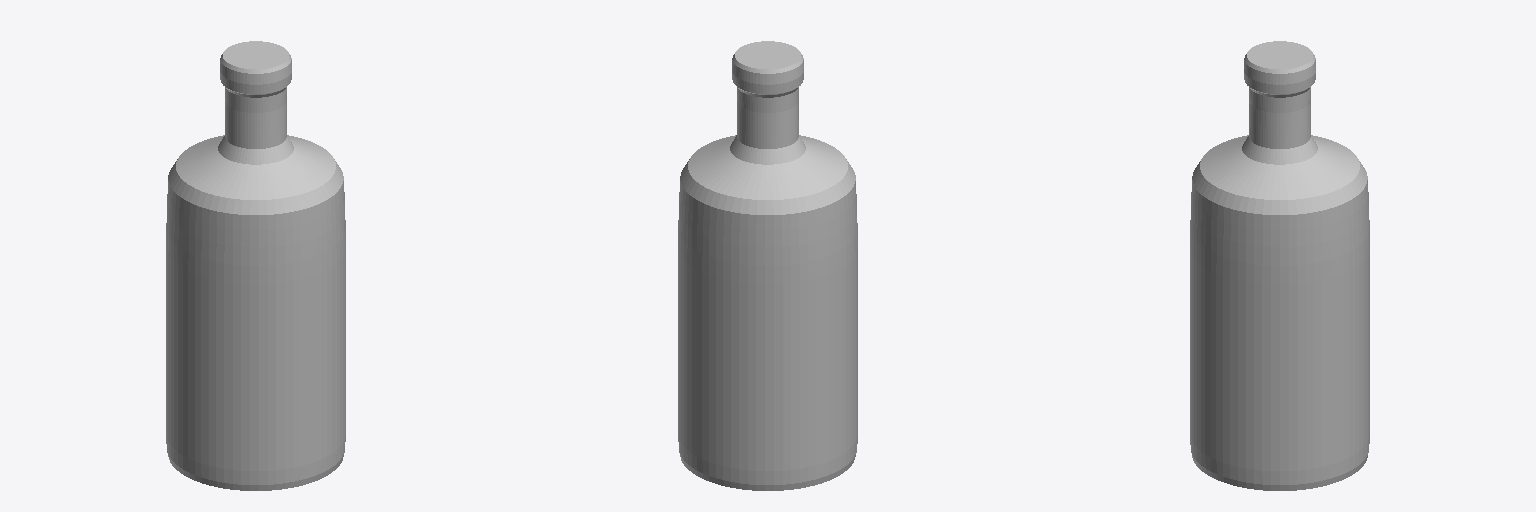
Rendered from butelka.obj.
3 views of the same model, side by side, from view 1: azimuth 30°, elevation 25°; view 2: azimuth 150°, elevation 25°; view 3: azimuth 270°, elevation 25° (orthographic).
Visible parts, largest first — view 1: Cylinder.029; view 2: Cylinder.029; view 3: Cylinder.029.
Boxes of the visible parts, <box> form: Cylinder.029: <box>166,41,345,490</box>; Cylinder.029: <box>678,41,857,490</box>; Cylinder.029: <box>1190,41,1369,490</box>.
Size of the model in its own units: 0.0801 by 0.1974 by 0.0801.